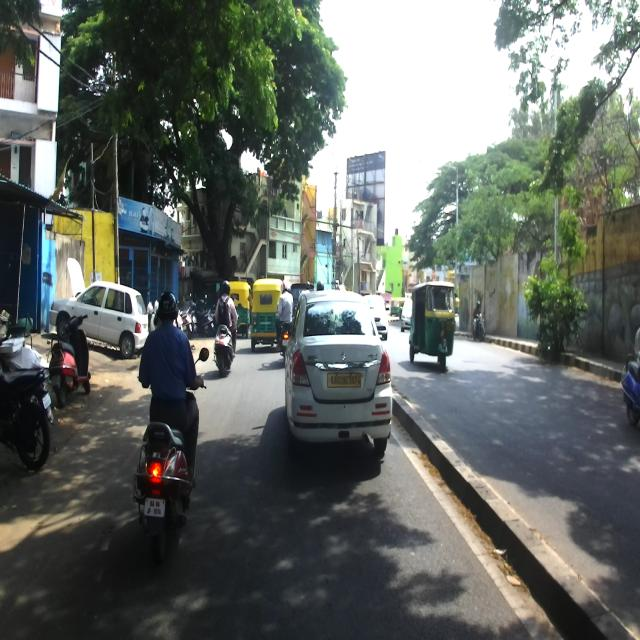auto ahead at: (249, 277, 279, 348)
car ahead at: (283, 283, 395, 472), (58, 274, 144, 342)
motorcycle ahead at: (137, 415, 204, 552), (4, 356, 54, 473), (209, 279, 239, 382)
